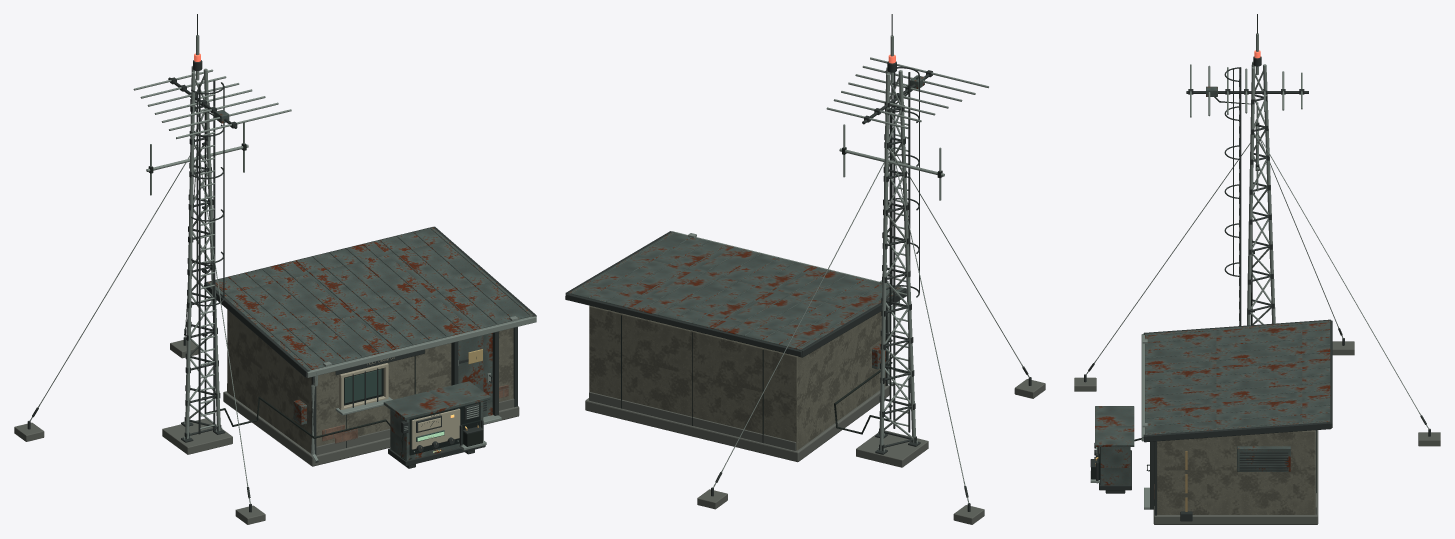
The model's file is radio_station_v01.glb.
3 renders of one model, left to right at view 1: azimuth 30°, elevation 25°; view 2: azimuth 150°, elevation 25°; view 3: azimuth 270°, elevation 25°, orthographic. The views are drawn at different scales.
Visible parts, largest first — view 1: RS_Roof, RS_Hut, RS_Mast, RS_Transmitter, RS_Cables, RS_Antenna; view 2: RS_Hut, RS_Roof, RS_Mast, RS_Cables, RS_Antenna; view 3: RS_Roof, RS_Hut, RS_Mast, RS_Transmitter, RS_Cables, RS_Antenna.
Part boxes in pixels (box(x1,y1,x2,y2)): RS_Roof: box(204, 226, 536, 377); RS_Hut: box(223, 309, 519, 466); RS_Mast: box(162, 66, 232, 454); RS_Transmitter: box(383, 381, 490, 468); RS_Cables: box(14, 112, 390, 524); RS_Antenna: box(133, 14, 291, 195); RS_Hut: box(585, 300, 899, 462); RS_Roof: box(565, 231, 906, 357); RS_Mast: box(856, 67, 928, 467); RS_Cables: box(697, 90, 1045, 524); RS_Antenna: box(826, 14, 988, 200); RS_Roof: box(1141, 319, 1332, 442); RS_Hut: box(1144, 430, 1318, 524); RS_Mast: box(1224, 61, 1275, 325); RS_Transmitter: box(1090, 406, 1134, 493); RS_Cables: box(1074, 97, 1440, 446); RS_Antenna: box(1186, 14, 1308, 191).
Size of the model in its own units: 10.08 by 10.05 by 8.52.
Materials: 17 (3 with a texture image).
